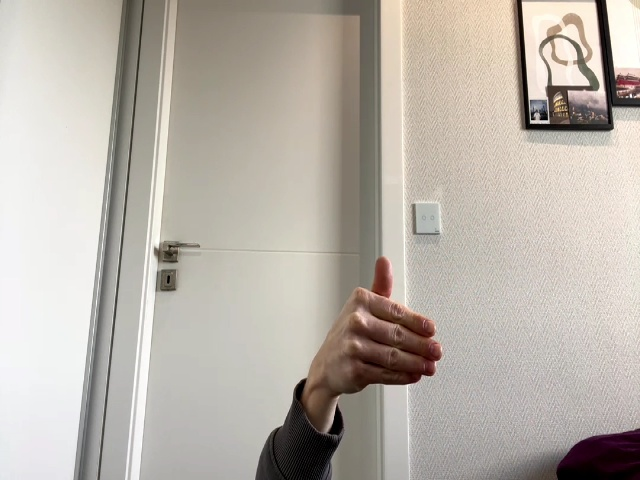M: (315, 257, 443, 399)
